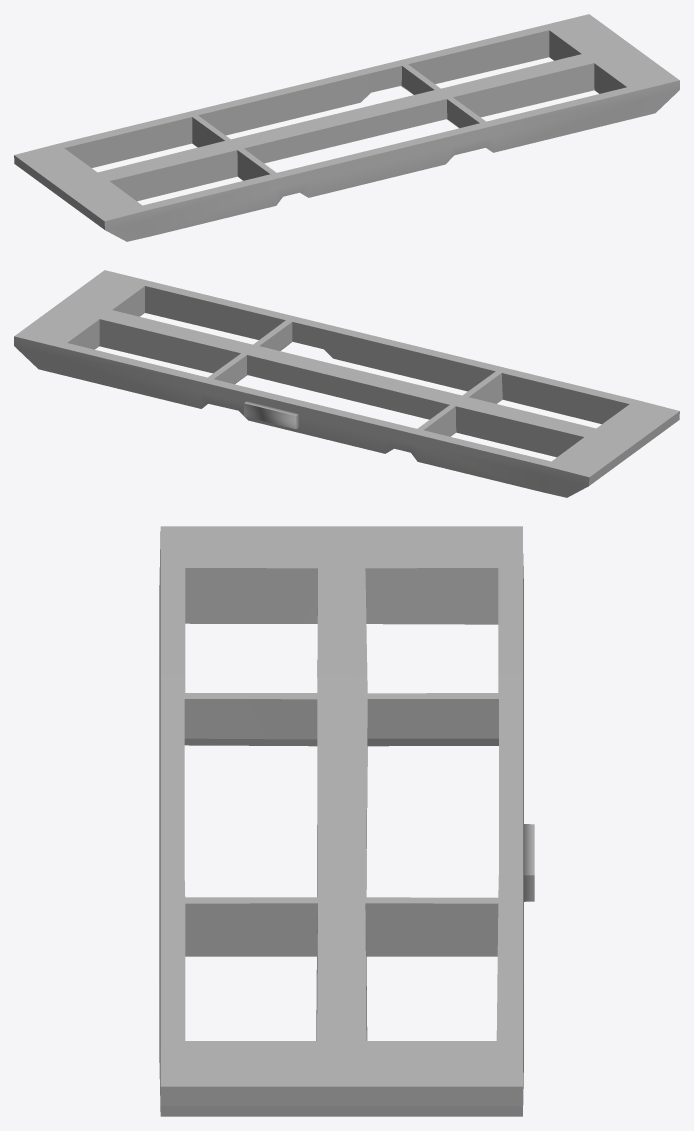
The model's file is KF_SM_Plataform.fbx.
3 views of the same model, one above another, from view 1: azimuth 30°, elevation 25°; view 2: azimuth 150°, elevation 25°; view 3: azimuth 270°, elevation 25° (orthographic). The views are drawn at different scales.
Parts seen in each view (by area): view 1: KF_SM_Plataform; view 2: KF_SM_Plataform; view 3: KF_SM_Plataform.
Part boxes in pixels (x1,y1,x2,y2): KF_SM_Plataform: (14,14,679,241); KF_SM_Plataform: (14,270,679,497); KF_SM_Plataform: (159,526,534,1116).
Bounding box in the file's own units: 2371 × 106 × 669.
